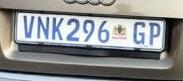2: (66, 17, 80, 42)
6: (96, 19, 110, 42)
9: (82, 19, 95, 42)
G: (132, 21, 146, 45)
K: (52, 16, 64, 41)
N: (37, 16, 49, 39)
P: (148, 21, 161, 47)
V: (23, 14, 33, 38)
